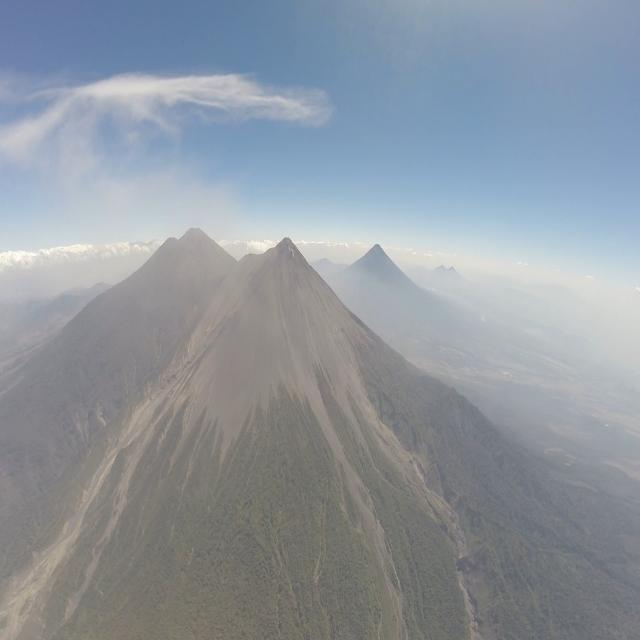Summit: (260, 231, 308, 262)
